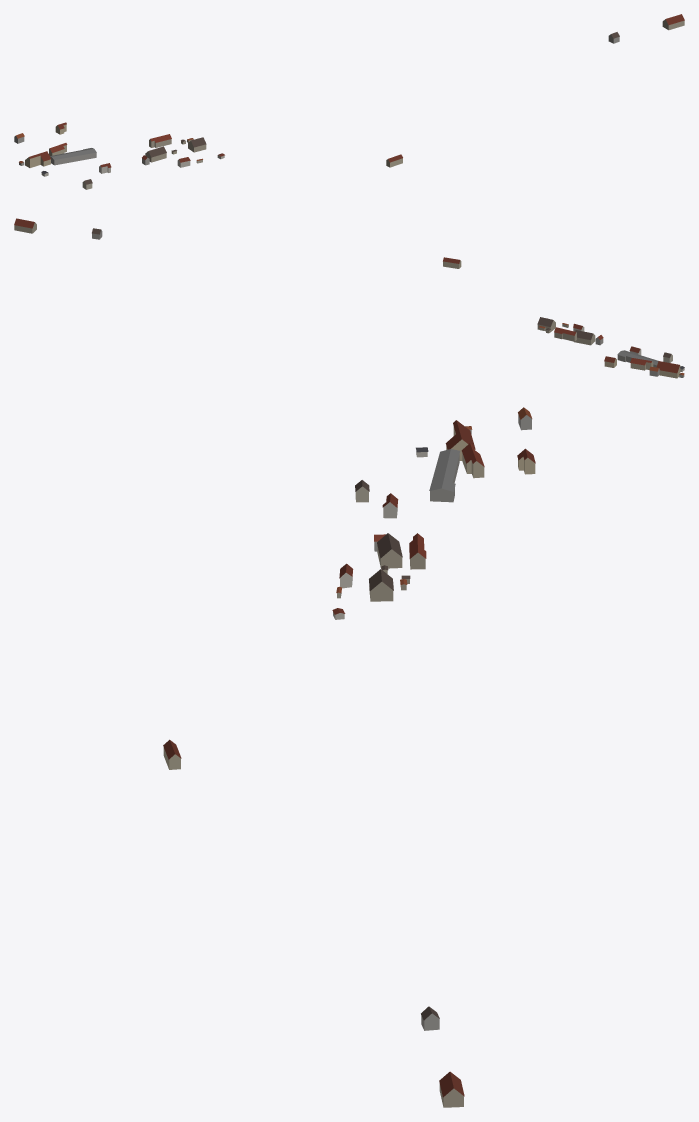
The picture shows the model from 3 angles, top to bottom: view 1: azimuth 30°, elevation 25°; view 2: azimuth 150°, elevation 25°; view 3: azimuth 270°, elevation 25°; orthographic projection. The views are drawn at different scales.
Parts seen in each view (by area): view 1: buildings; view 2: buildings; view 3: buildings.
Part boxes in pixels (<box>): buildings: <box>14,14,684,189</box>; buildings: <box>14,218,684,378</box>; buildings: <box>163,407,535,1107</box>.
Size of the model in its own units: 774 by 40.12 by 189.
